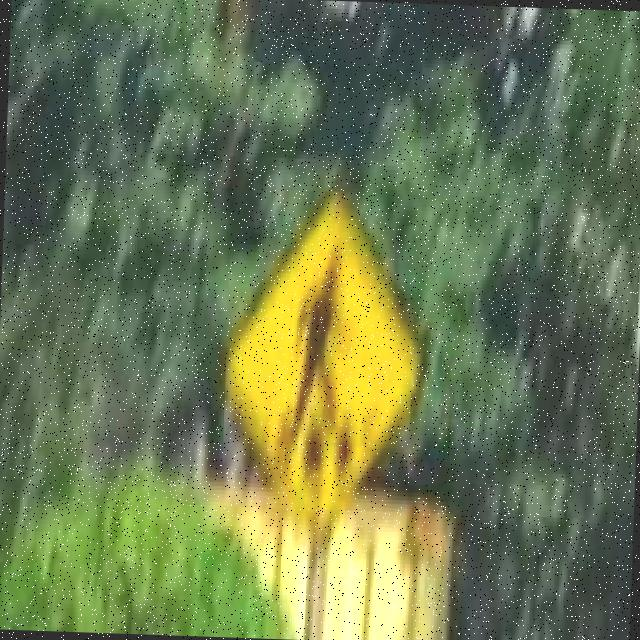Przejscie dla pieszych: (222, 192, 426, 540)
